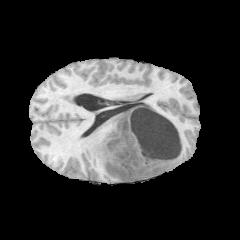glioma: (92, 101, 183, 182)
